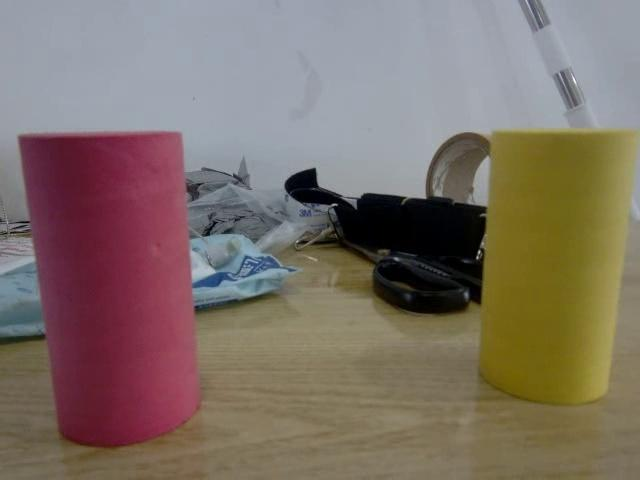red_cylinder: (12, 128, 212, 455)
yellow_cylinder: (472, 125, 640, 411)
